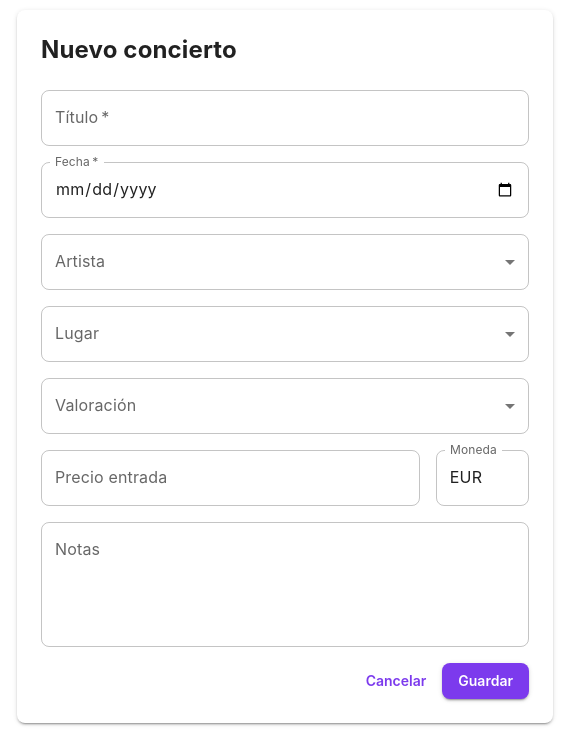
validates required fields
(page scrolled)
Click the button "Guardar".
click(486, 681)  # box x1=442 y1=662 x2=529 y2=699
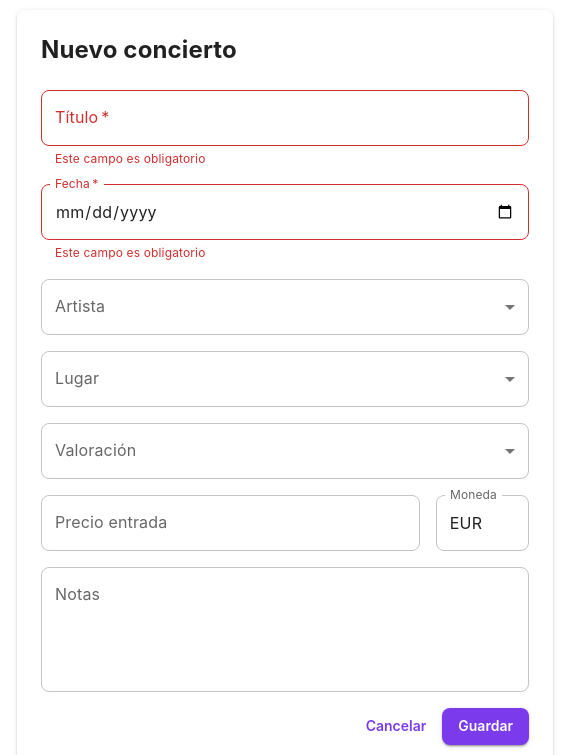
Now the text "Este campo es obligatorio" is shown 2 times, box x1=55 y1=150 x2=206 y2=166; x1=55 y1=245 x2=206 y2=260
